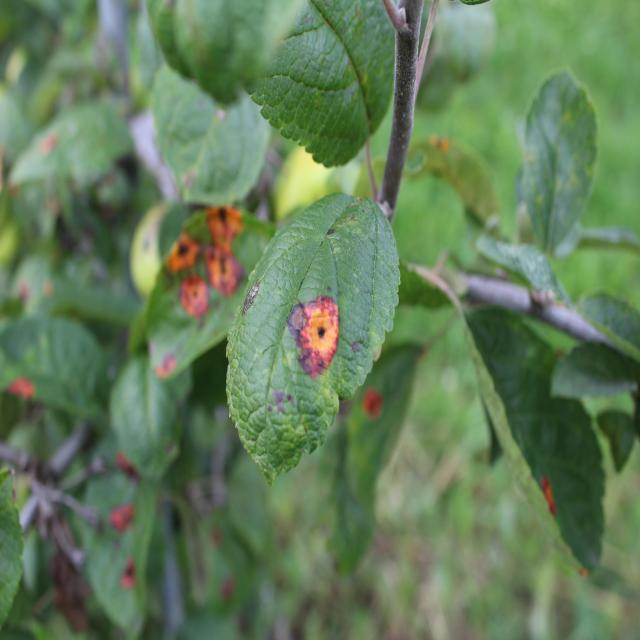Rust: (283, 286, 346, 380), (205, 202, 258, 248), (209, 241, 246, 305), (178, 275, 216, 325), (164, 230, 202, 278), (155, 350, 179, 386)
